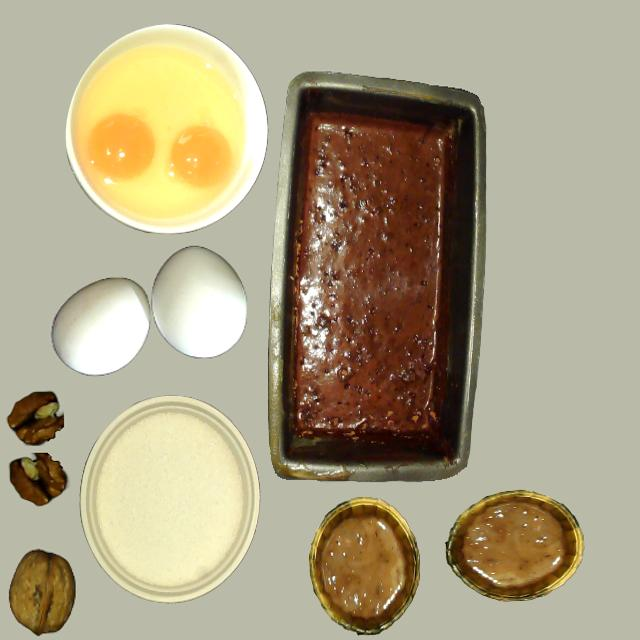Egg: (87, 113, 155, 183), (170, 125, 231, 188)
Sugar: (94, 409, 244, 593)
Walnut: (8, 552, 75, 634)
